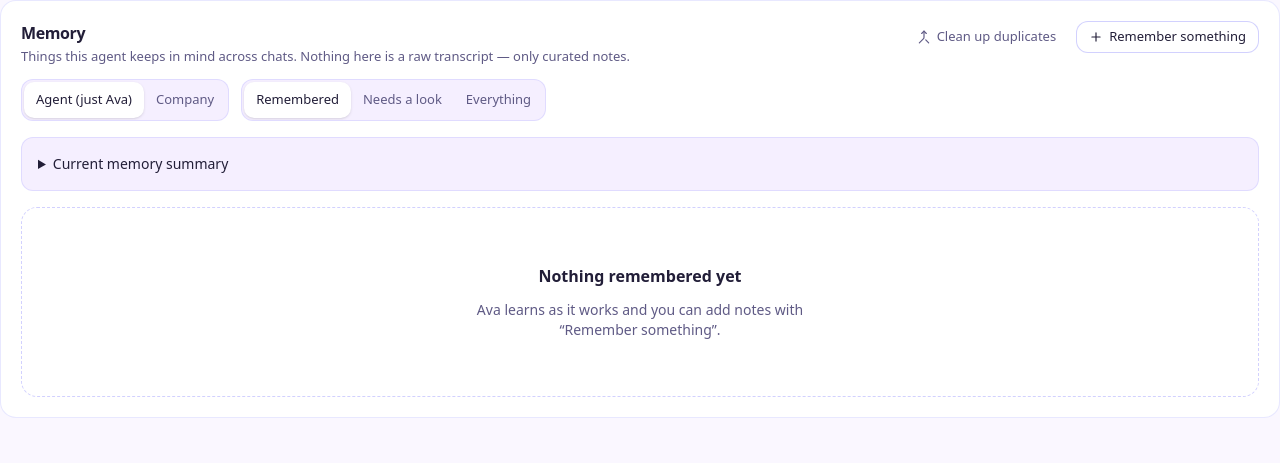
MemoryPanel duplicates cleanup › reports when nothing needed merging
Step 1. Click the button "Clean up duplicates" → [986, 37], box x1=905 y1=21 x2=1068 y2=53
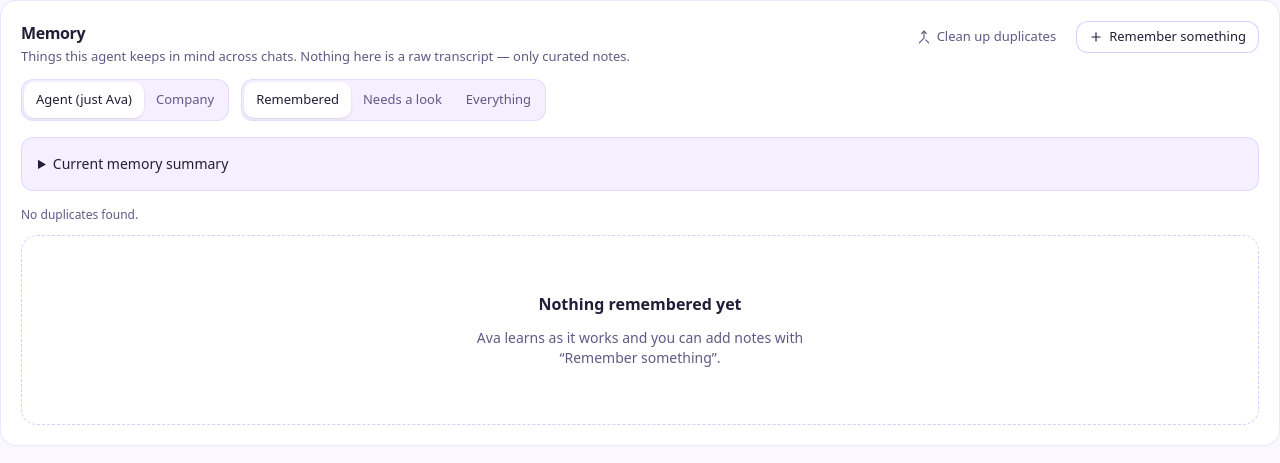
Check: the message reads "No duplicates found.", box x1=21 y1=206 x2=138 y2=222
